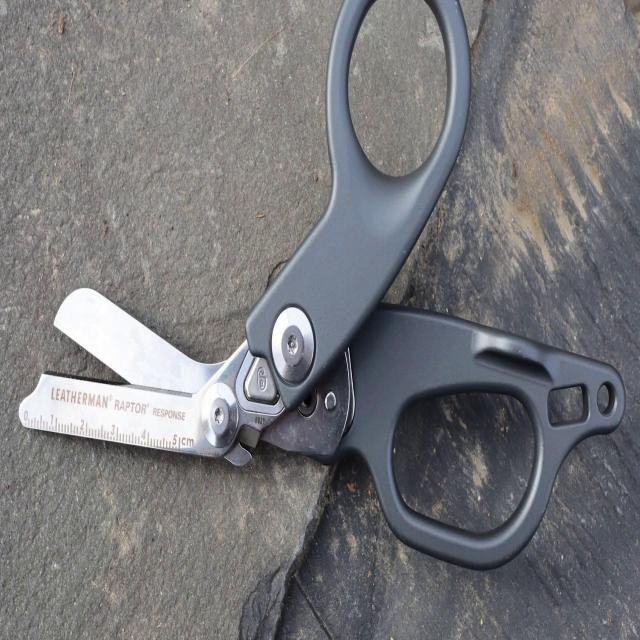scissor: (18, 0, 626, 572)
